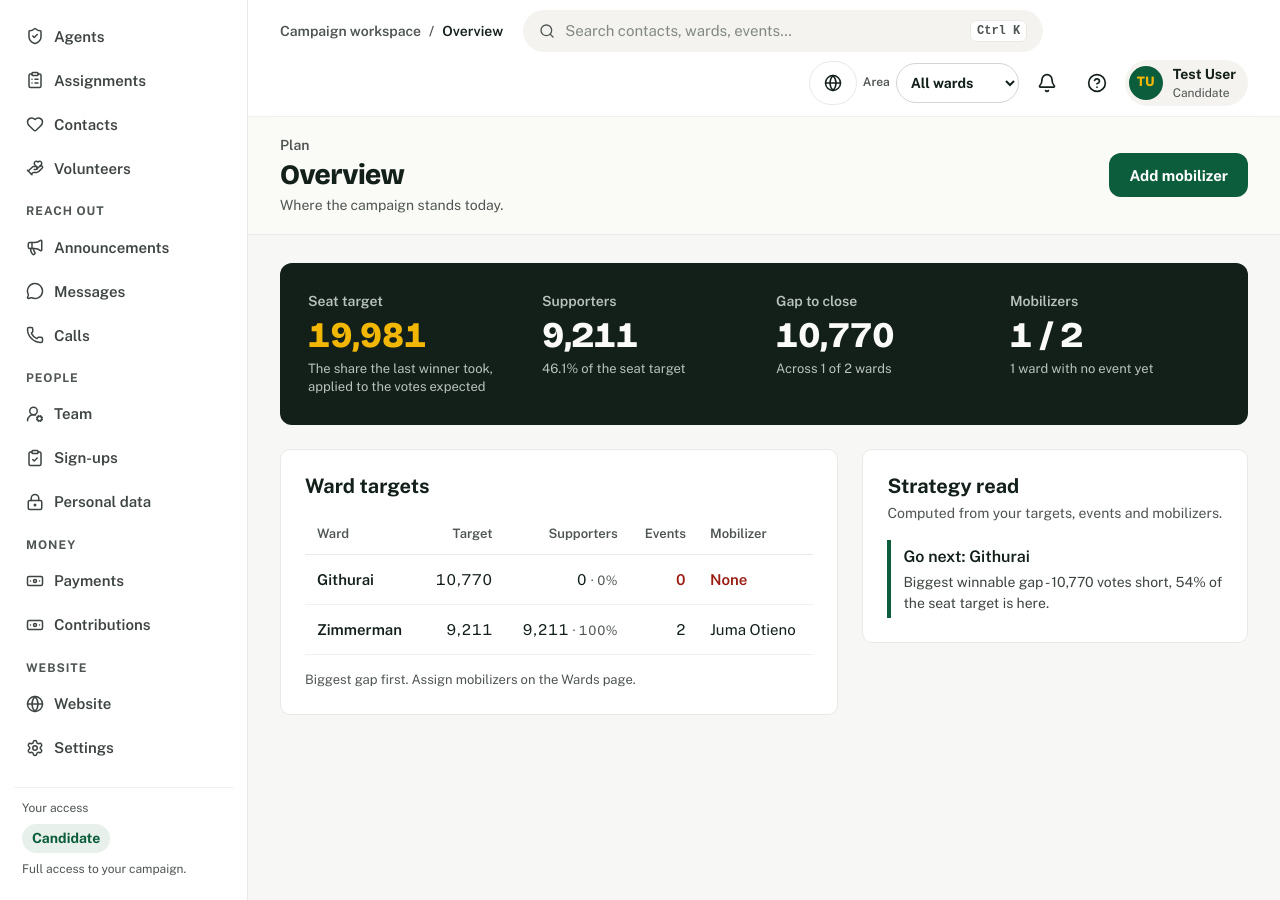
Scenario: payments › shows the balance, fee and what is left, and holds a release the balance does not cover
This screenshot has width=1280, height=900.
(page scrolled)
Click the link "Payments" at (75,581), box x1=26 y1=572 x2=124 y2=590
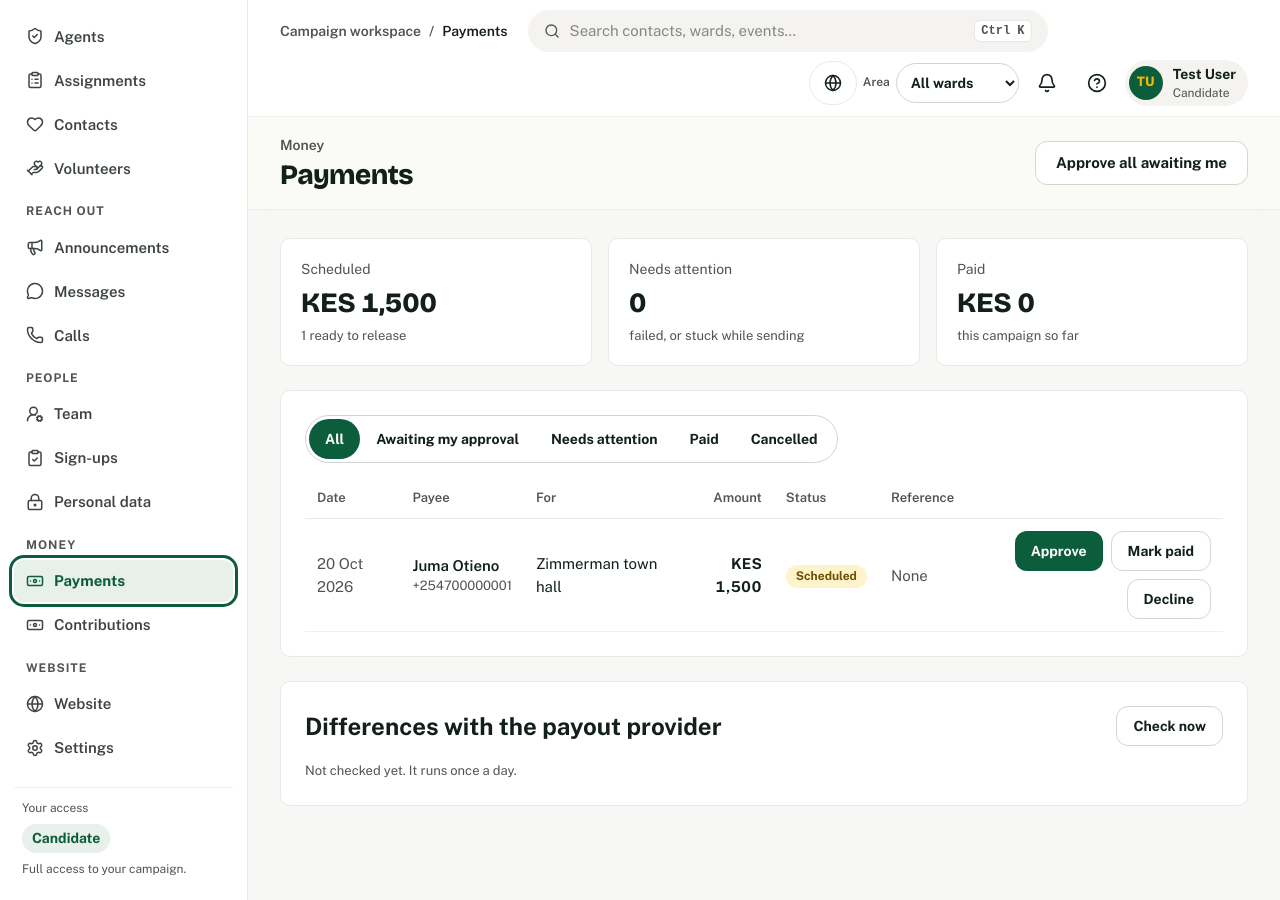
Expected: the text "Juma Otieno" is shown, x1=412 y1=554 x2=512 y2=578
Click the button "Approve" at (1059,551), box x1=1015 y1=531 x2=1103 y2=571
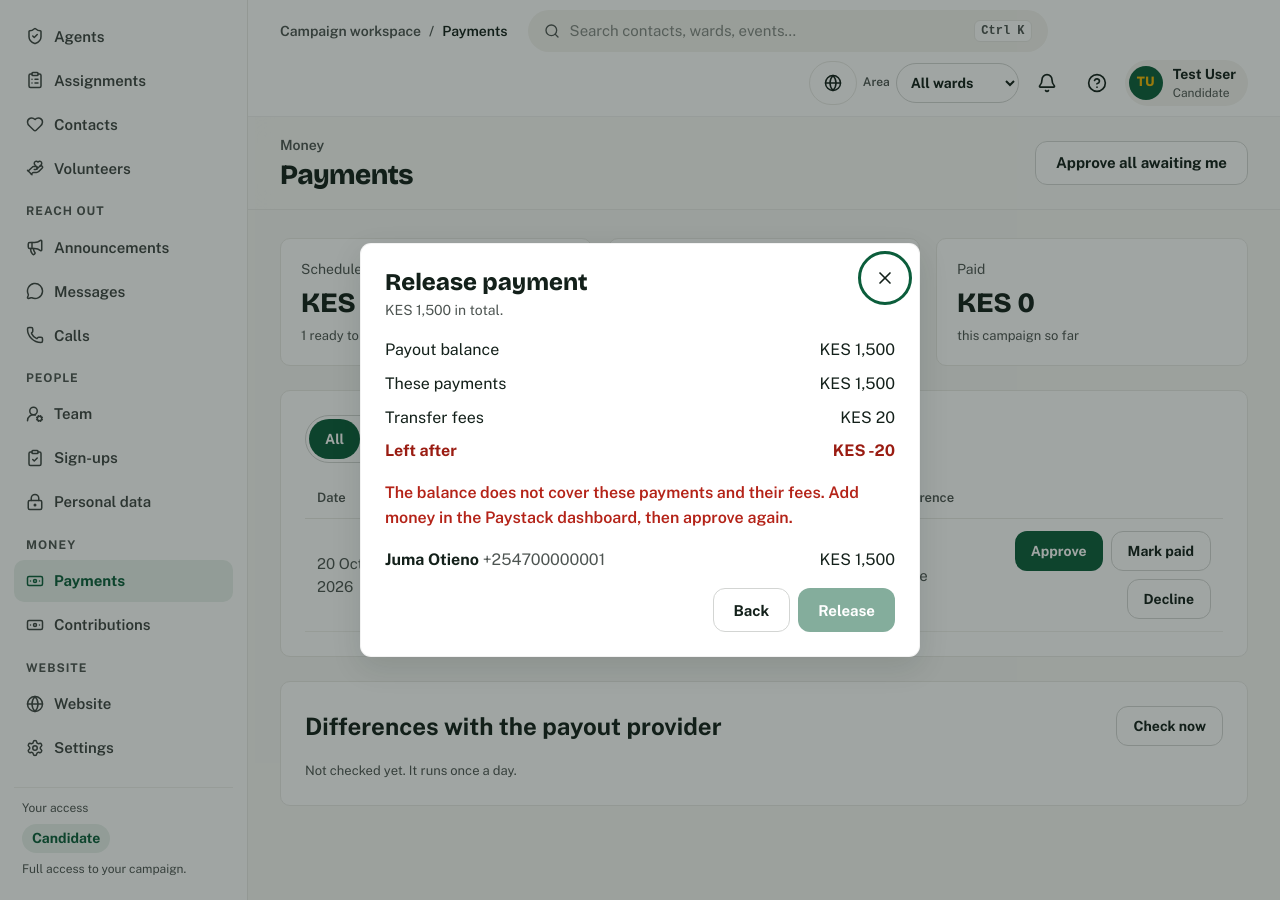
Result: the text "Transfer fees" is shown at x1=385 y1=404 x2=484 y2=430
Result: the text "KES -20" is shown at x1=833 y1=438 x2=895 y2=464
Result: the button "Release" is disabled at x1=798 y1=588 x2=895 y2=632
